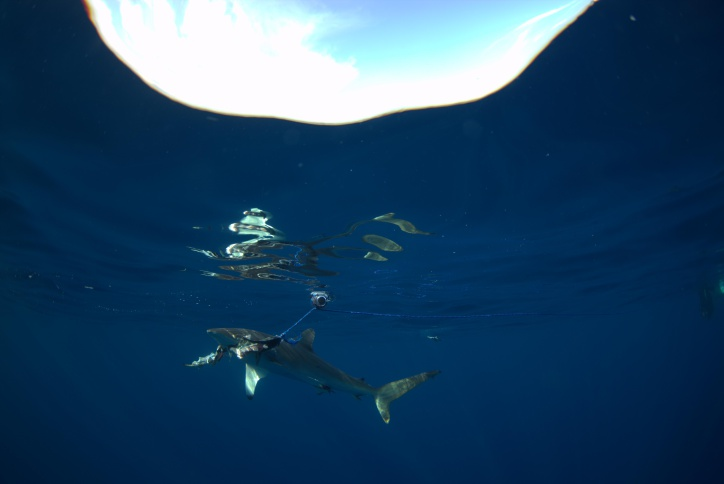Sedoso: (191, 307, 446, 434)
